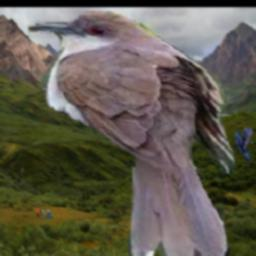Cuckoo: (29, 9, 236, 256)
Swallow: (235, 128, 253, 164)
